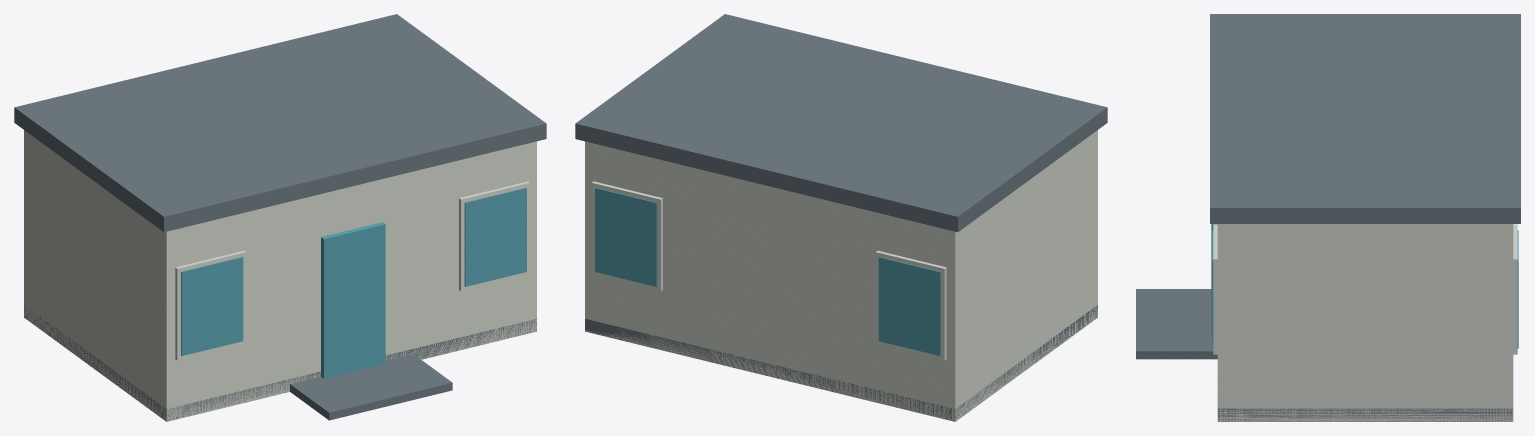
The model's file is low_poly_city_apartment_building_low_2.glb.
3 renders of one model, left to right at view 1: azimuth 30°, elevation 25°; view 2: azimuth 150°, elevation 25°; view 3: azimuth 270°, elevation 25°, orthographic. The views are drawn at different scales.
Visible parts, largest first — view 1: Building wall volume 001, Flat roof coping 013, Entry door 012, Ground entrance porch 011, Window blue glazing 008, Window blue glazing 004, Plinth 002, Window trim 003, Window trim 007; view 2: Building wall volume 001, Flat roof coping 013, Plinth 002, Window blue glazing 010, Window blue glazing 006, Window trim 005, Window trim 009; view 3: Flat roof coping 013, Building wall volume 001, Ground entrance porch 011, Plinth 002, Window trim 007, Window trim 009.
Boxes of the visible parts, x1=… form: Building wall volume 001: x1=24, y1=130, x2=536, y2=421; Flat roof coping 013: x1=14, y1=14, x2=546, y2=232; Entry door 012: x1=321, y1=222, x2=385, y2=378; Ground entrance porch 011: x1=290, y1=354, x2=452, y2=420; Window blue glazing 008: x1=464, y1=187, x2=526, y2=286; Window blue glazing 004: x1=181, y1=257, x2=243, y2=356; Plinth 002: x1=24, y1=308, x2=536, y2=421; Window trim 003: x1=175, y1=250, x2=246, y2=360; Window trim 007: x1=459, y1=181, x2=530, y2=291; Building wall volume 001: x1=585, y1=130, x2=1097, y2=421; Flat roof coping 013: x1=575, y1=14, x2=1107, y2=232; Plinth 002: x1=585, y1=305, x2=1097, y2=421; Window blue glazing 010: x1=595, y1=187, x2=657, y2=286; Window blue glazing 006: x1=878, y1=257, x2=940, y2=356; Window trim 005: x1=875, y1=250, x2=946, y2=360; Window trim 009: x1=591, y1=181, x2=662, y2=291; Flat roof coping 013: x1=1210, y1=14, x2=1520, y2=223; Building wall volume 001: x1=1217, y1=224, x2=1513, y2=421; Ground entrance porch 011: x1=1136, y1=289, x2=1217, y2=359; Plinth 002: x1=1217, y1=408, x2=1513, y2=421; Window trim 007: x1=1213, y1=224, x2=1217, y2=354; Window trim 009: x1=1513, y1=224, x2=1517, y2=354.
Bounding box in the file's own units: 6.2 × 3.24 × 5.2.
3 materials, 3 textured.
